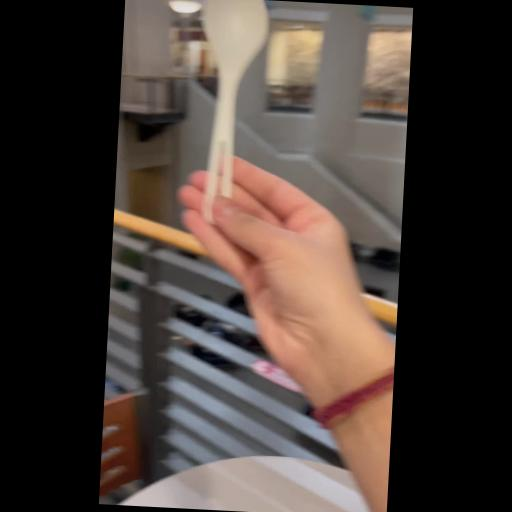utensil: (186, 0, 274, 232)
